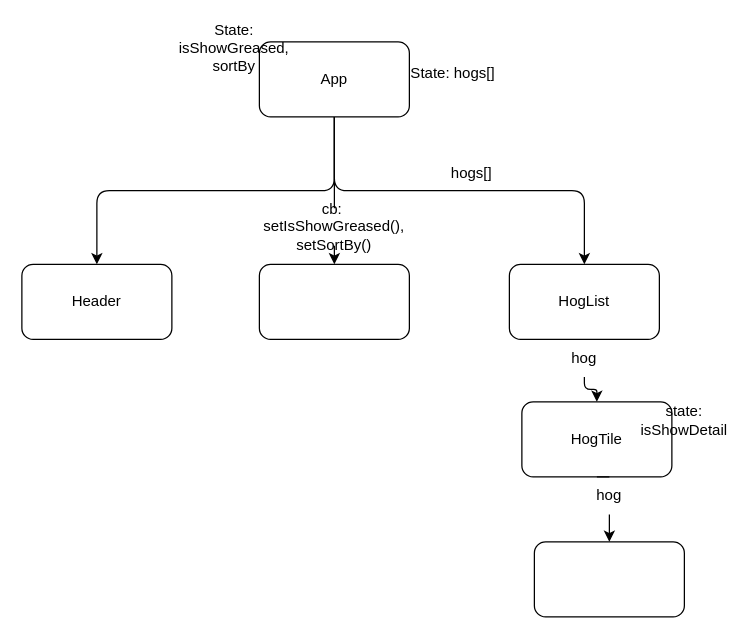
This 749x639 diagram has some shape labels left out. The centre of each missing label's shape, as x and y in pixels:
"Filter" belongs at point (333, 301).
"HogDetail" belongs at point (608, 579).
